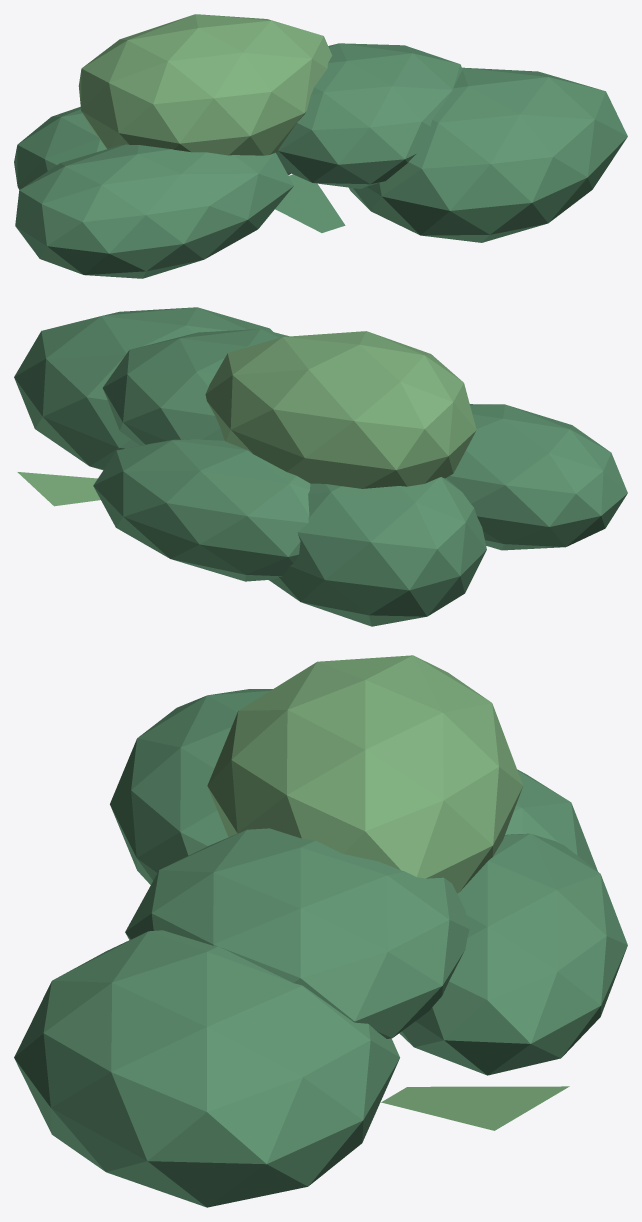
Rendered from myb_forest_canopy_mass_a.fbx.
The picture shows the model from 3 angles, top to bottom: view 1: azimuth 30°, elevation 25°; view 2: azimuth 150°, elevation 25°; view 3: azimuth 270°, elevation 25°; orthographic projection. The views are drawn at different scales.
Parts seen in each view (by area): view 1: myb_forest_canopy_mass_a; view 2: myb_forest_canopy_mass_a; view 3: myb_forest_canopy_mass_a.
Boxes of the visible parts, bbox=[...] form: myb_forest_canopy_mass_a: bbox=[14, 14, 627, 278]; myb_forest_canopy_mass_a: bbox=[14, 307, 627, 626]; myb_forest_canopy_mass_a: bbox=[14, 655, 627, 1207].
Size of the model in its own units: 2.77 by 1.05 by 1.71.
